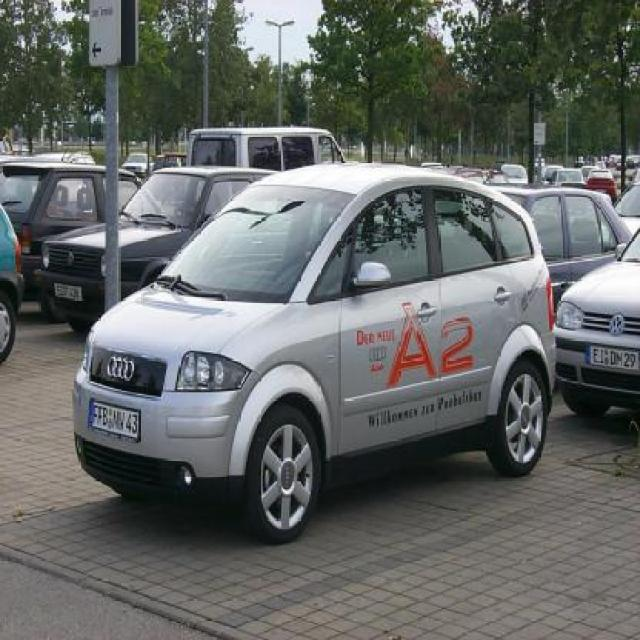License-Plates: (83, 394, 147, 446)
